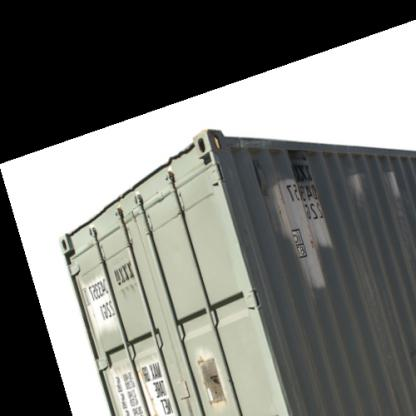Damage: (230, 139, 414, 165)
